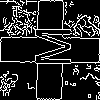M: (25, 25, 72, 68)
